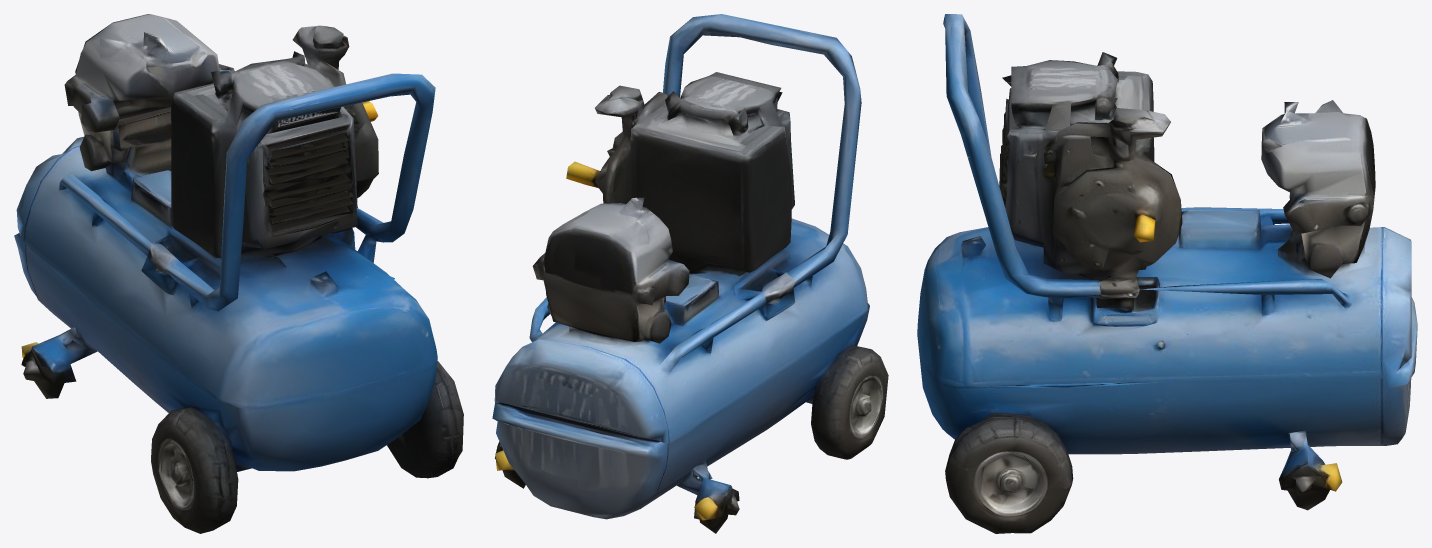
Rendered from qr_compressor.glb.
3 views of the same model, side by side, from view 1: azimuth 30°, elevation 25°; view 2: azimuth 150°, elevation 25°; view 3: azimuth 270°, elevation 25° (orthographic). The views are drawn at different scales.
Parts seen in each view (by area): view 1: tripo_node_4dc1068a-8101-43a9-861e-5fc3f764f3b8; view 2: tripo_node_4dc1068a-8101-43a9-861e-5fc3f764f3b8; view 3: tripo_node_4dc1068a-8101-43a9-861e-5fc3f764f3b8.
Boxes of the visible parts, left/top/right/bottom form: tripo_node_4dc1068a-8101-43a9-861e-5fc3f764f3b8: left=14, top=14, right=463, bottom=533; tripo_node_4dc1068a-8101-43a9-861e-5fc3f764f3b8: left=492, top=14, right=888, bottom=533; tripo_node_4dc1068a-8101-43a9-861e-5fc3f764f3b8: left=917, top=14, right=1417, bottom=533.
Size of the model in its own units: 0.6274 by 0.9503 by 1.
Materials: 1 (1 with a texture image).
